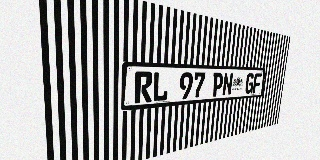7: (192, 72, 206, 98)
9: (179, 72, 193, 100)
F: (252, 73, 262, 93)
G: (245, 73, 255, 94)
L: (152, 72, 169, 102)
N: (222, 73, 233, 96)
P: (211, 73, 224, 97)
R: (134, 71, 153, 103)
